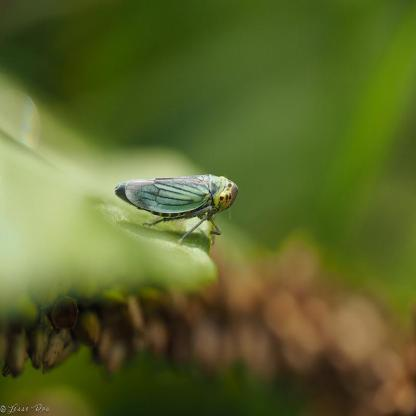Green-Leafhopper: (114, 172, 240, 249)
